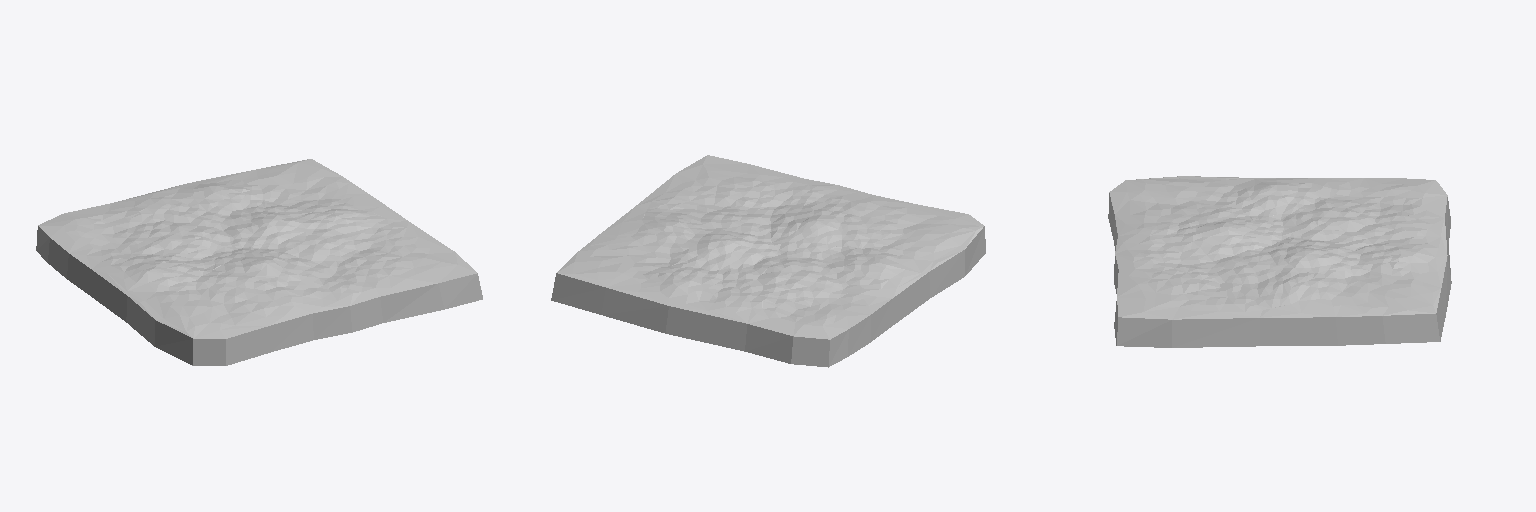
Rendered from Meadow_Flat_2.obj.
3 views of the same model, side by side, from view 1: azimuth 30°, elevation 25°; view 2: azimuth 150°, elevation 25°; view 3: azimuth 270°, elevation 25° (orthographic).
Parts seen in each view (by area): view 1: PP_Meadow_08.002; view 2: PP_Meadow_08.002; view 3: PP_Meadow_08.002.
Boxes of the visible parts, <box> form: PP_Meadow_08.002: <box>36,159,482,365</box>; PP_Meadow_08.002: <box>551,155,985,367</box>; PP_Meadow_08.002: <box>1108,176,1451,347</box>.
Bounding box in the file's own units: 23.6 × 2.92 × 23.48.